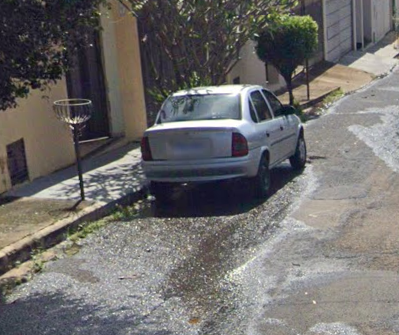car: (137, 72, 309, 204)
